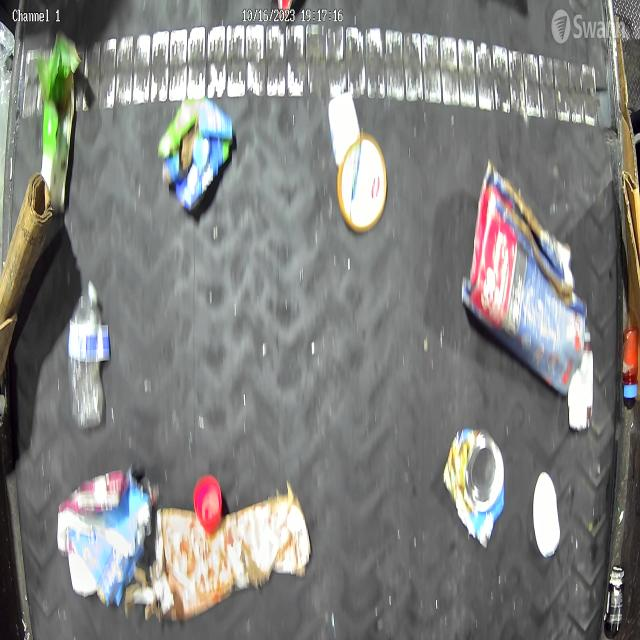can: (442, 425, 506, 550)
plastic_bottle: (68, 278, 106, 436)
